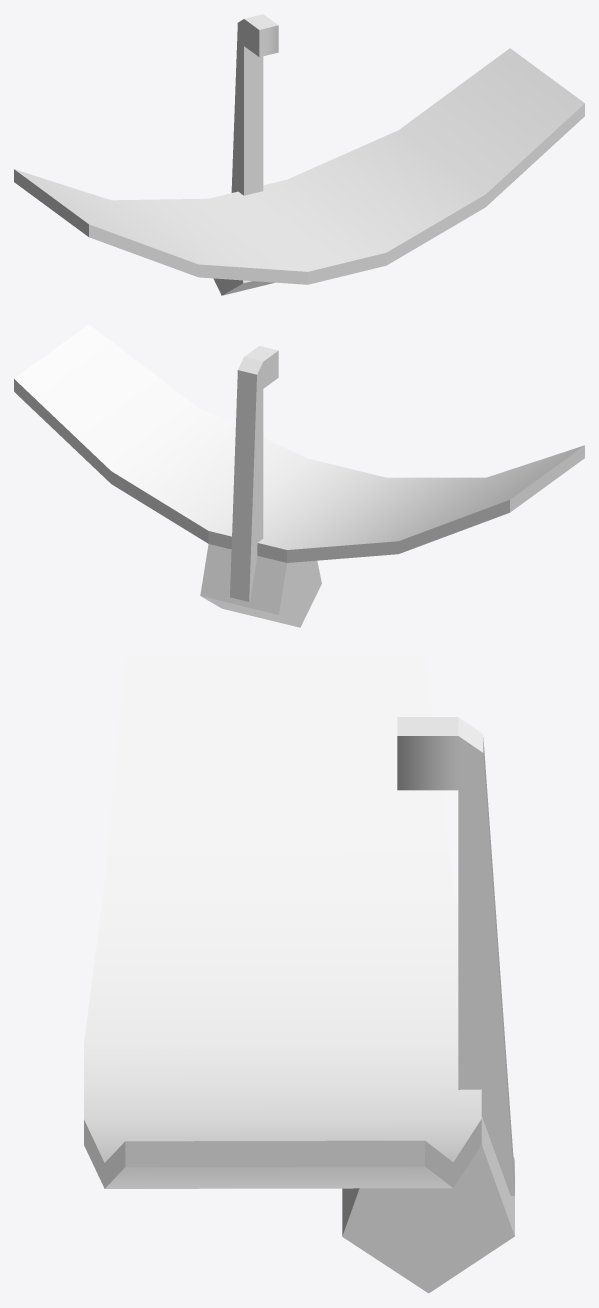
The model's file is radarturm2.obj.
3 renders of one model, top to bottom at view 1: azimuth 30°, elevation 25°; view 2: azimuth 150°, elevation 25°; view 3: azimuth 270°, elevation 25°, orthographic. The views are drawn at different scales.
Parts seen in each view (by area): view 1: cube2_copy27; view 2: cube2_copy27; view 3: cube2_copy27.
Part boxes in pixels (box(x1,y1,x2,y2)): cube2_copy27: box(14, 14, 584, 295); cube2_copy27: box(14, 324, 584, 627); cube2_copy27: box(84, 656, 514, 1293).
Bounding box in the file's own units: 12.29 × 6.26 × 4.62.
Materials: 1 (1 with a texture image).
